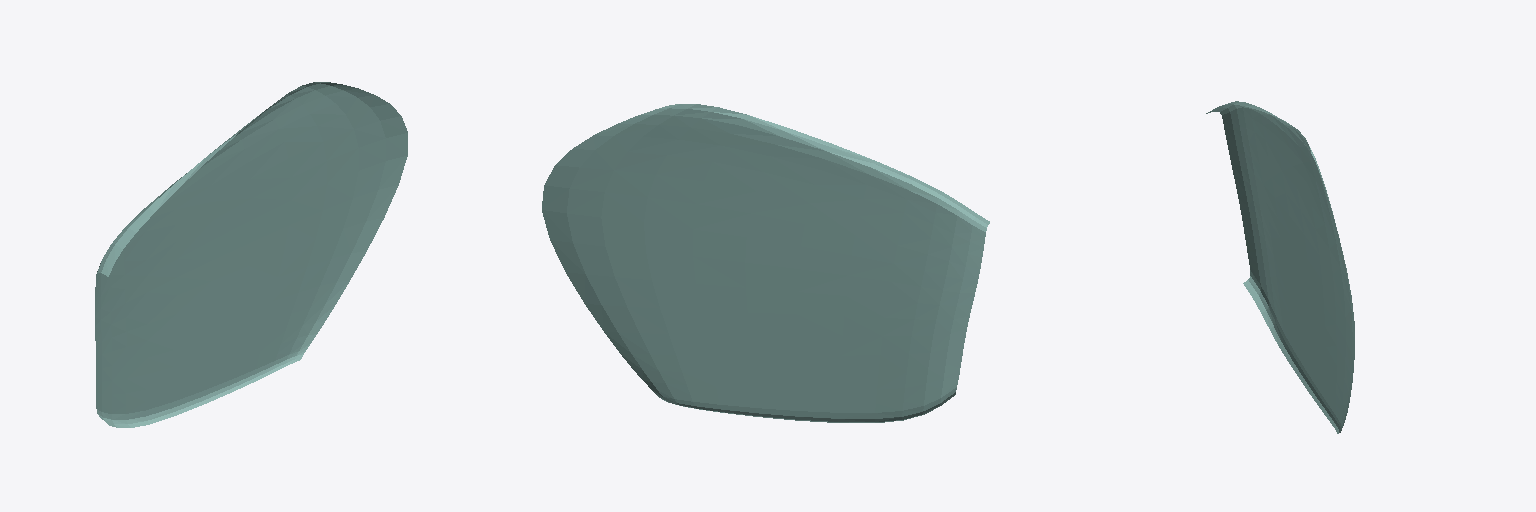
File: espejoIzquierdo.obj
3 renders of one model, left to right at view 1: azimuth 30°, elevation 25°; view 2: azimuth 150°, elevation 25°; view 3: azimuth 270°, elevation 25°, orthographic.
Parts seen in each view (by area): view 1: Espejos.002_Cube.003; view 2: Espejos.002_Cube.003; view 3: Espejos.002_Cube.003.
Boxes of the visible parts, x1,y1,x2,y2 form: Espejos.002_Cube.003: [95, 82, 407, 427]; Espejos.002_Cube.003: [542, 104, 989, 422]; Espejos.002_Cube.003: [1206, 101, 1354, 433].
Bounding box in the file's own units: 0.5967 × 0.4433 × 0.2054.